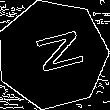N_W: (23, 28, 83, 81)
